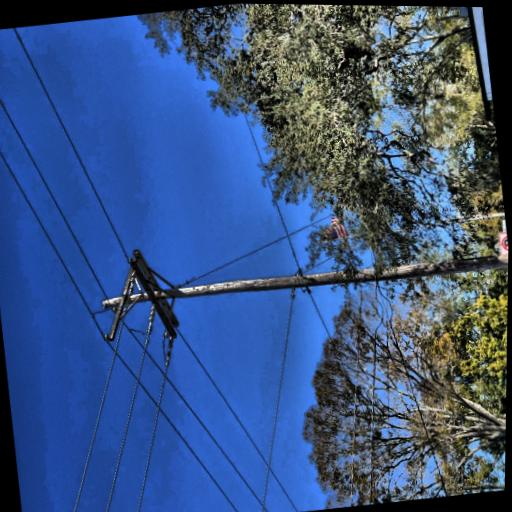pole: (91, 250, 151, 512)
